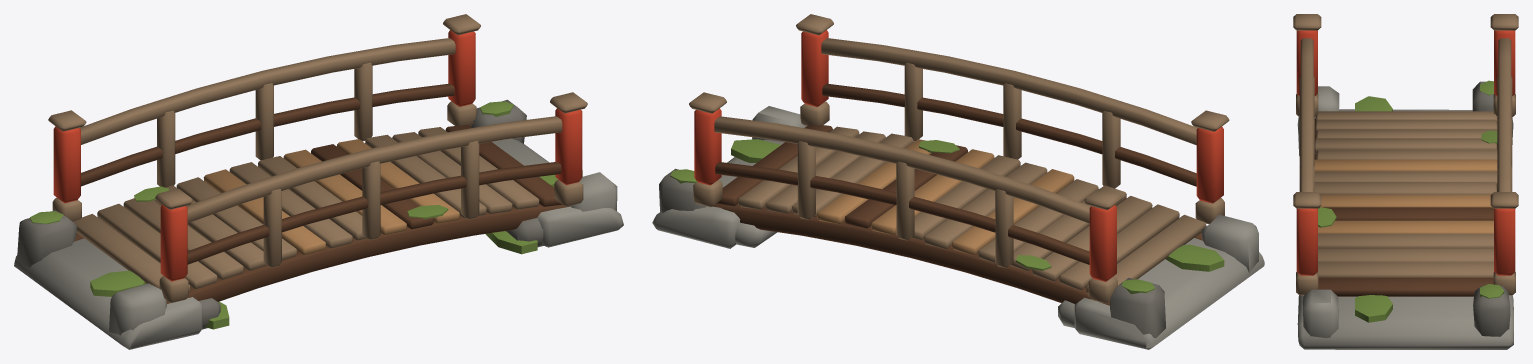
Rendered from wooden_bridge.glb.
3 views of the same model, side by side, from view 1: azimuth 30°, elevation 25°; view 2: azimuth 150°, elevation 25°; view 3: azimuth 270°, elevation 25° (orthographic). The views are drawn at different scales.
Parts seen in each view (by area): view 1: bridge; view 2: bridge; view 3: bridge.
Part boxes in pixels (x1,y1,x2,y2): bridge: [14, 14, 623, 349]; bridge: [652, 14, 1264, 349]; bridge: [1293, 14, 1518, 349].
Size of what is drawn, in the model's own units: 3.25 by 0.8927 by 1.37.
